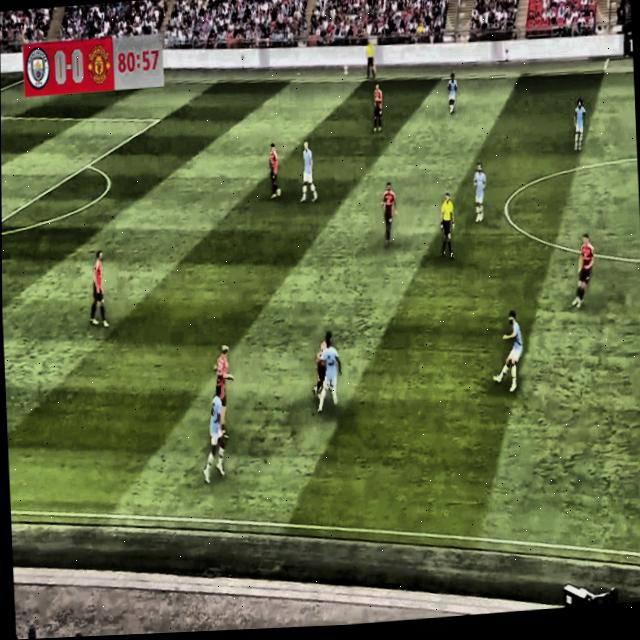ball: (329, 368, 345, 395)
players: (491, 302, 530, 400), (196, 387, 232, 487), (565, 227, 600, 323), (207, 339, 236, 448), (311, 336, 342, 417), (85, 247, 111, 331), (310, 324, 335, 405), (377, 177, 404, 251), (296, 135, 321, 207), (566, 91, 592, 152), (470, 159, 492, 228), (263, 138, 287, 201), (366, 77, 385, 141), (443, 64, 462, 122)
refree: (433, 187, 462, 262), (360, 29, 378, 84)
